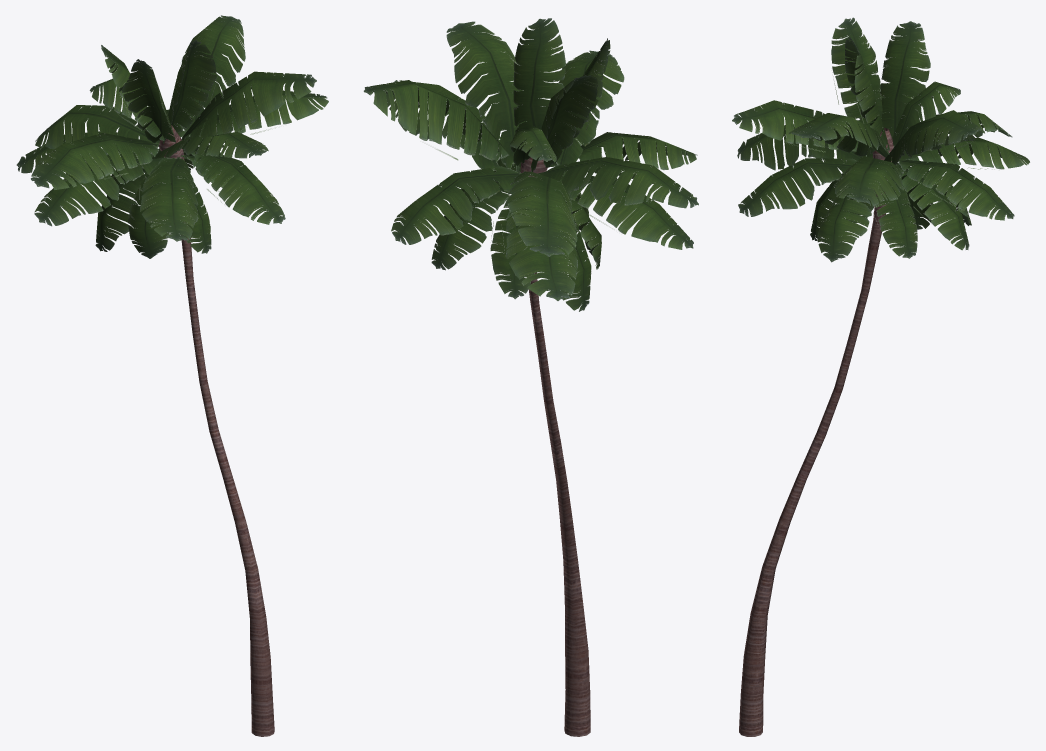
The model's file is Ht_shu_02.FBX.
The picture shows the model from 3 angles, left to right: view 1: azimuth 30°, elevation 25°; view 2: azimuth 150°, elevation 25°; view 3: azimuth 270°, elevation 25°; orthographic projection. The views are drawn at different scales.
Visible parts, largest first — view 1: Ht_shu_02; view 2: Ht_shu_02; view 3: Ht_shu_02.
Boxes of the visible parts, bbox=[...] form: Ht_shu_02: bbox=[16, 15, 328, 736]; Ht_shu_02: bbox=[363, 18, 698, 736]; Ht_shu_02: bbox=[732, 17, 1029, 736].
Bounding box in the file's own units: 845 × 1868 × 744.
